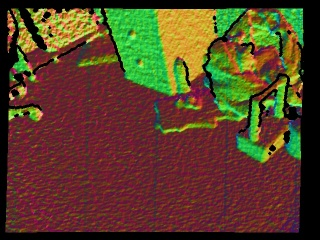station: (236, 74, 290, 164)
